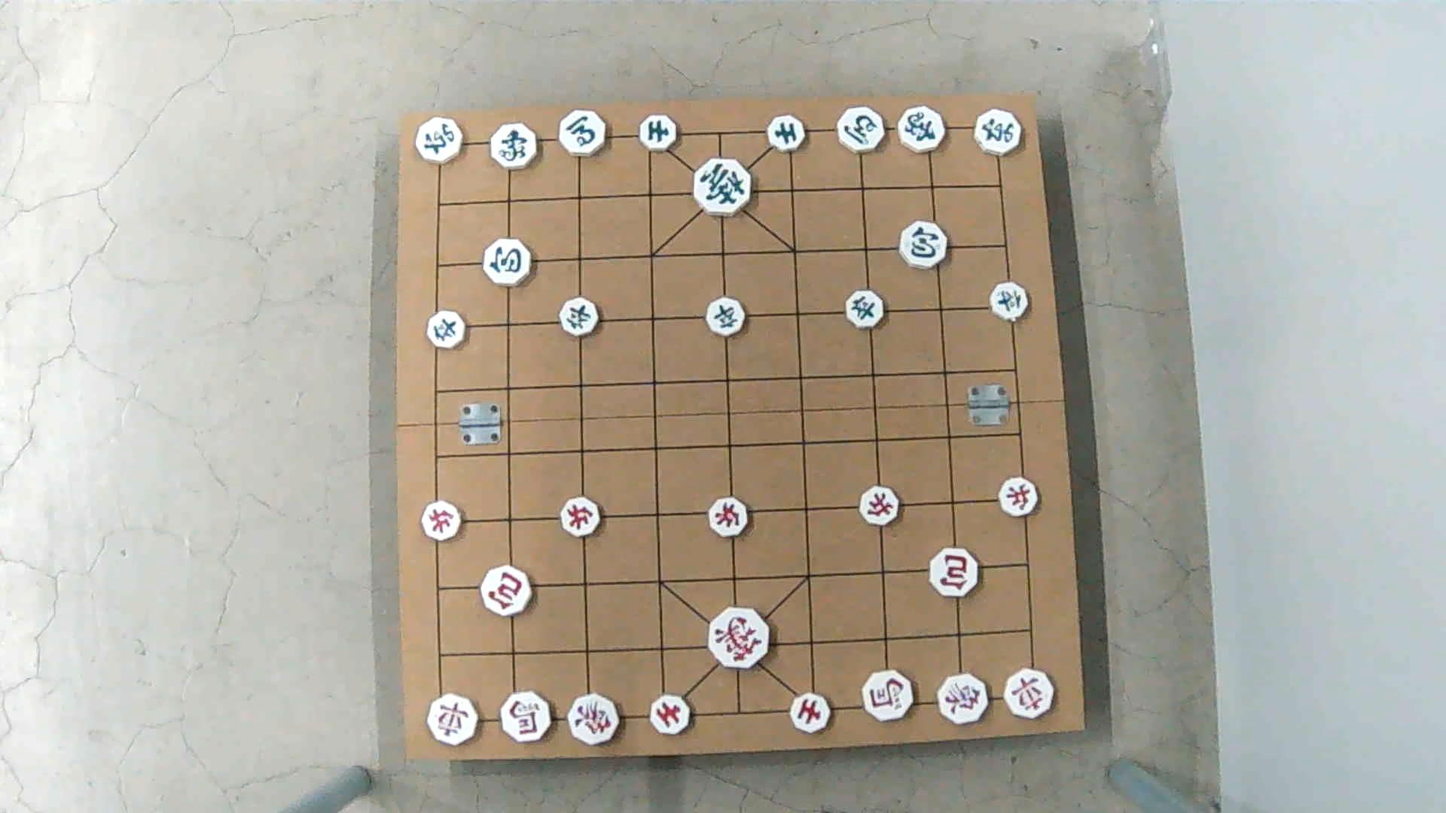cha_green: (971, 108, 1023, 154), (415, 120, 466, 163)
cha_red: (1002, 669, 1057, 717), (426, 695, 479, 744)
jol_green: (704, 300, 747, 336), (843, 291, 886, 326), (558, 300, 601, 335), (988, 284, 1030, 319), (426, 314, 468, 349)
jol_red: (997, 480, 1042, 516), (706, 499, 751, 535), (558, 500, 603, 535), (859, 489, 903, 524), (419, 503, 462, 537)
ma_green: (558, 114, 611, 156), (835, 109, 886, 151)
ma_red: (862, 671, 917, 719), (498, 694, 553, 741)
po_green: (480, 241, 531, 285), (898, 224, 950, 266)
po_red: (929, 553, 981, 598), (479, 571, 533, 614)
sa_green: (763, 117, 807, 150), (639, 117, 680, 151)
sa_red: (648, 697, 692, 734), (789, 696, 833, 732)
sang_green: (896, 105, 947, 156), (490, 126, 542, 169)
sang_red: (565, 692, 621, 744), (936, 677, 991, 723)
wang_green: (694, 160, 754, 214)
wang_red: (706, 612, 773, 667)
